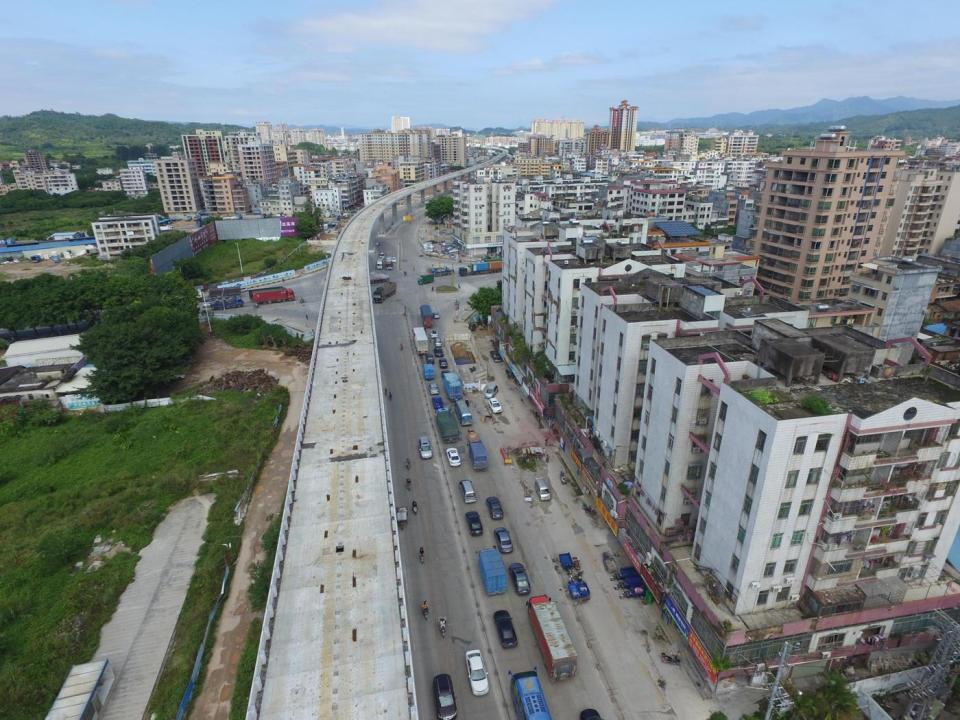bus: (508, 666, 562, 720), (454, 400, 472, 426), (385, 255, 393, 270)
car: (433, 674, 457, 720), (466, 650, 489, 695), (494, 610, 517, 648), (510, 563, 530, 595), (494, 527, 512, 553), (466, 511, 483, 537), (487, 497, 502, 519), (419, 437, 432, 458), (446, 448, 461, 466), (489, 398, 502, 414), (485, 385, 498, 398), (432, 396, 443, 409), (491, 351, 502, 363), (428, 383, 439, 394), (439, 358, 448, 368), (426, 354, 434, 365), (434, 347, 442, 357), (430, 330, 438, 338), (434, 311, 440, 318), (392, 257, 396, 263), (449, 255, 454, 258)
truck: (526, 596, 576, 682), (476, 548, 509, 596), (436, 408, 460, 443), (467, 430, 488, 470), (458, 260, 510, 275), (200, 286, 242, 300), (443, 372, 462, 401), (255, 289, 294, 303), (248, 286, 286, 300), (372, 282, 396, 304), (411, 326, 428, 354), (210, 296, 243, 310), (477, 257, 512, 267), (420, 304, 434, 328), (429, 267, 454, 277), (423, 364, 434, 381), (418, 273, 432, 284), (154, 225, 172, 231)
van: (459, 480, 476, 503), (535, 477, 550, 501), (434, 337, 442, 347), (376, 258, 382, 269)
